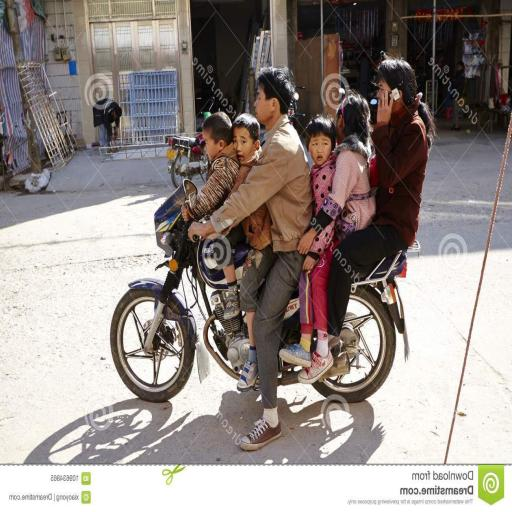overloading: (107, 170, 418, 414)
